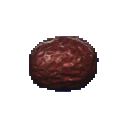gd: (10, 18, 109, 103)
